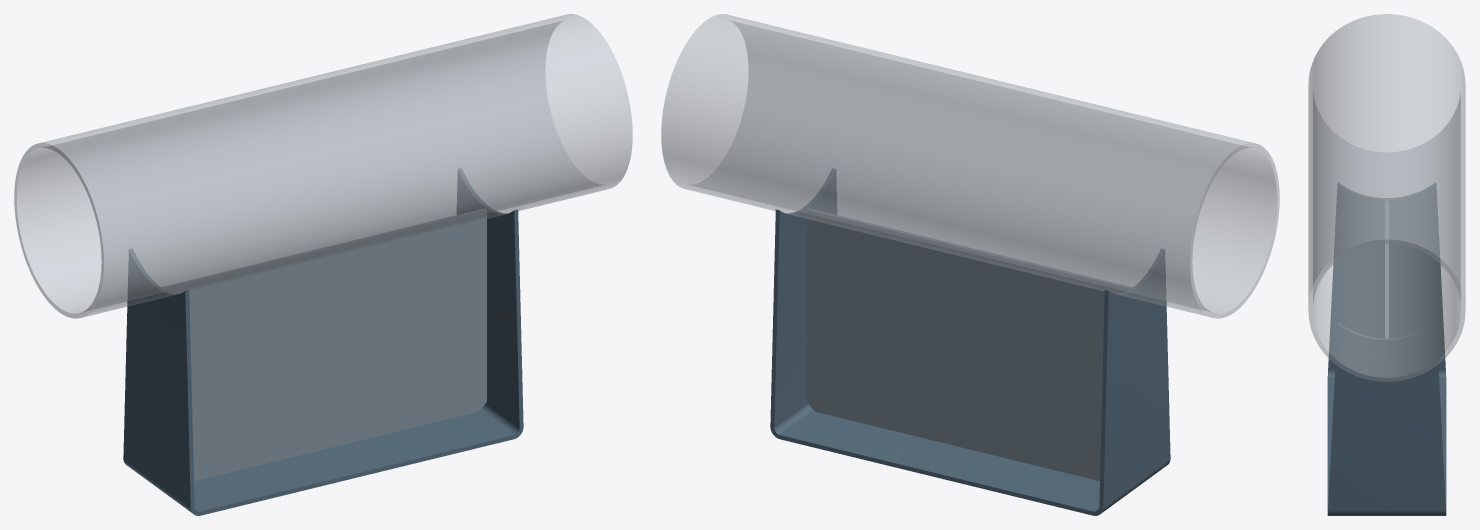
File: TS-623.000-23-opora-dn159-H200-L340.glb
3 views of the same model, side by side, from view 1: azimuth 30°, elevation 25°; view 2: azimuth 150°, elevation 25°; view 3: azimuth 270°, elevation 25° (orthographic). The views are drawn at different scales.
Visible parts, largest first — view 1: truba, rebro, skoba; view 2: truba, rebro, skoba; view 3: truba, skoba, rebro.
Boxes of the visible parts, x1,y1,x2,y2 form: truba: (14,14,632,318); rebro: (162,209,486,481); skoba: (123,168,523,515); truba: (661,14,1279,318); rebro: (807,209,1131,481); skoba: (770,168,1170,515); truba: (1308,14,1465,381); skoba: (1327,183,1446,515); rebro: (1385,201,1388,338).
Size of the model in its own units: 540 by 359 by 159.
